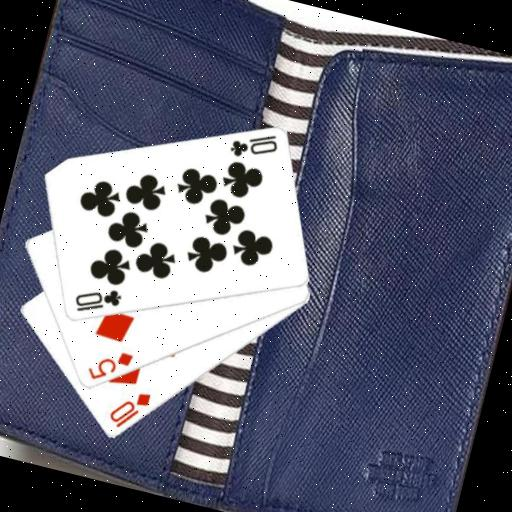10C: (225, 122, 282, 168), (69, 279, 126, 324)
10D: (104, 383, 154, 436)
5D: (82, 341, 136, 390)
